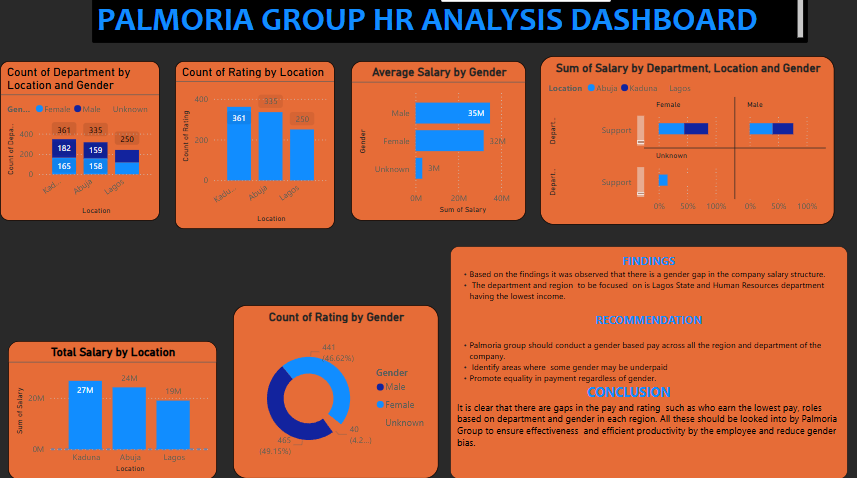

Layout of this report page (visuals, bound fields, positions):
{"tool":"powerbi","page":{"name":"Page 1","canvas":[1280,720],"ordinal":0},"visuals":[{"type":"columnChart","fields":{"Category":["Palmoria Group emp-data.Location"],"Y":["CountNonNull(Palmoria Group emp-data.Department)"],"Series":["Palmoria Group emp-data.Gender"]},"box":[8.4,110.9,230.1,230.1],"z":0},{"type":"pieChart","fields":{"Y":["CountNonNull(Palmoria Group emp-data.Rating)"],"Category":["Palmoria Group emp-data.Gender"]},"box":[364.5,483.8,252,230.1],"z":1000},{"type":"columnChart","fields":{"Category":["Palmoria Group emp-data.Location"],"Y":["CountNonNull(Palmoria Group emp-data.Rating)"]},"box":[260.4,110.9,230.1,241.9],"z":2000},{"type":"clusteredBarChart","fields":{"Category":["Palmoria Group emp-data.Department"],"Y":["Sum(Palmoria Group emp-data.Salary)"],"Series":["Palmoria Group emp-data.Location"]},"box":[826.5,110.9,305.7,230.1],"z":3000},{"type":"barChart","title":"Average Salary by Gender","fields":{"Category":["Palmoria Group emp-data.Gender"],"Y":["Sum(Palmoria Group emp-data.Salary)"]},"box":[514,110.9,252,230.1],"z":4000},{"type":"columnChart","title":"Total Salary by Location","fields":{"Category":["Palmoria Group emp-data.Location"],"Y":["Sum(Palmoria Group emp-data.Salary)"]},"box":[20.2,514,300.7,199.9],"z":5000},{"type":"textbox","box":[141.1,13.4,1031.4,72.2],"z":6000},{"type":"textbox","box":[656.8,378,572.8,336],"z":7000}]}

Visuals, with their boxes in screenshot pixels (x1, y1, x2, y2), scaled from the page's 1280x720 canvas onto the 857x478 screenshot:
columnChart - Palmoria Group emp-data.Location x CountNonNull(Palmoria Group emp-data.Department): 6,74,160,226
pieChart - CountNonNull(Palmoria Group emp-data.Rating) x Palmoria Group emp-data.Gender: 244,321,413,474
columnChart - Palmoria Group emp-data.Location x CountNonNull(Palmoria Group emp-data.Rating): 174,74,328,234
clusteredBarChart - Palmoria Group emp-data.Department x Sum(Palmoria Group emp-data.Salary): 553,74,758,226
"Average Salary by Gender" barChart: 344,74,513,226
"Total Salary by Location" columnChart: 14,341,215,474
textbox: 94,9,785,57
textbox: 440,251,823,474
